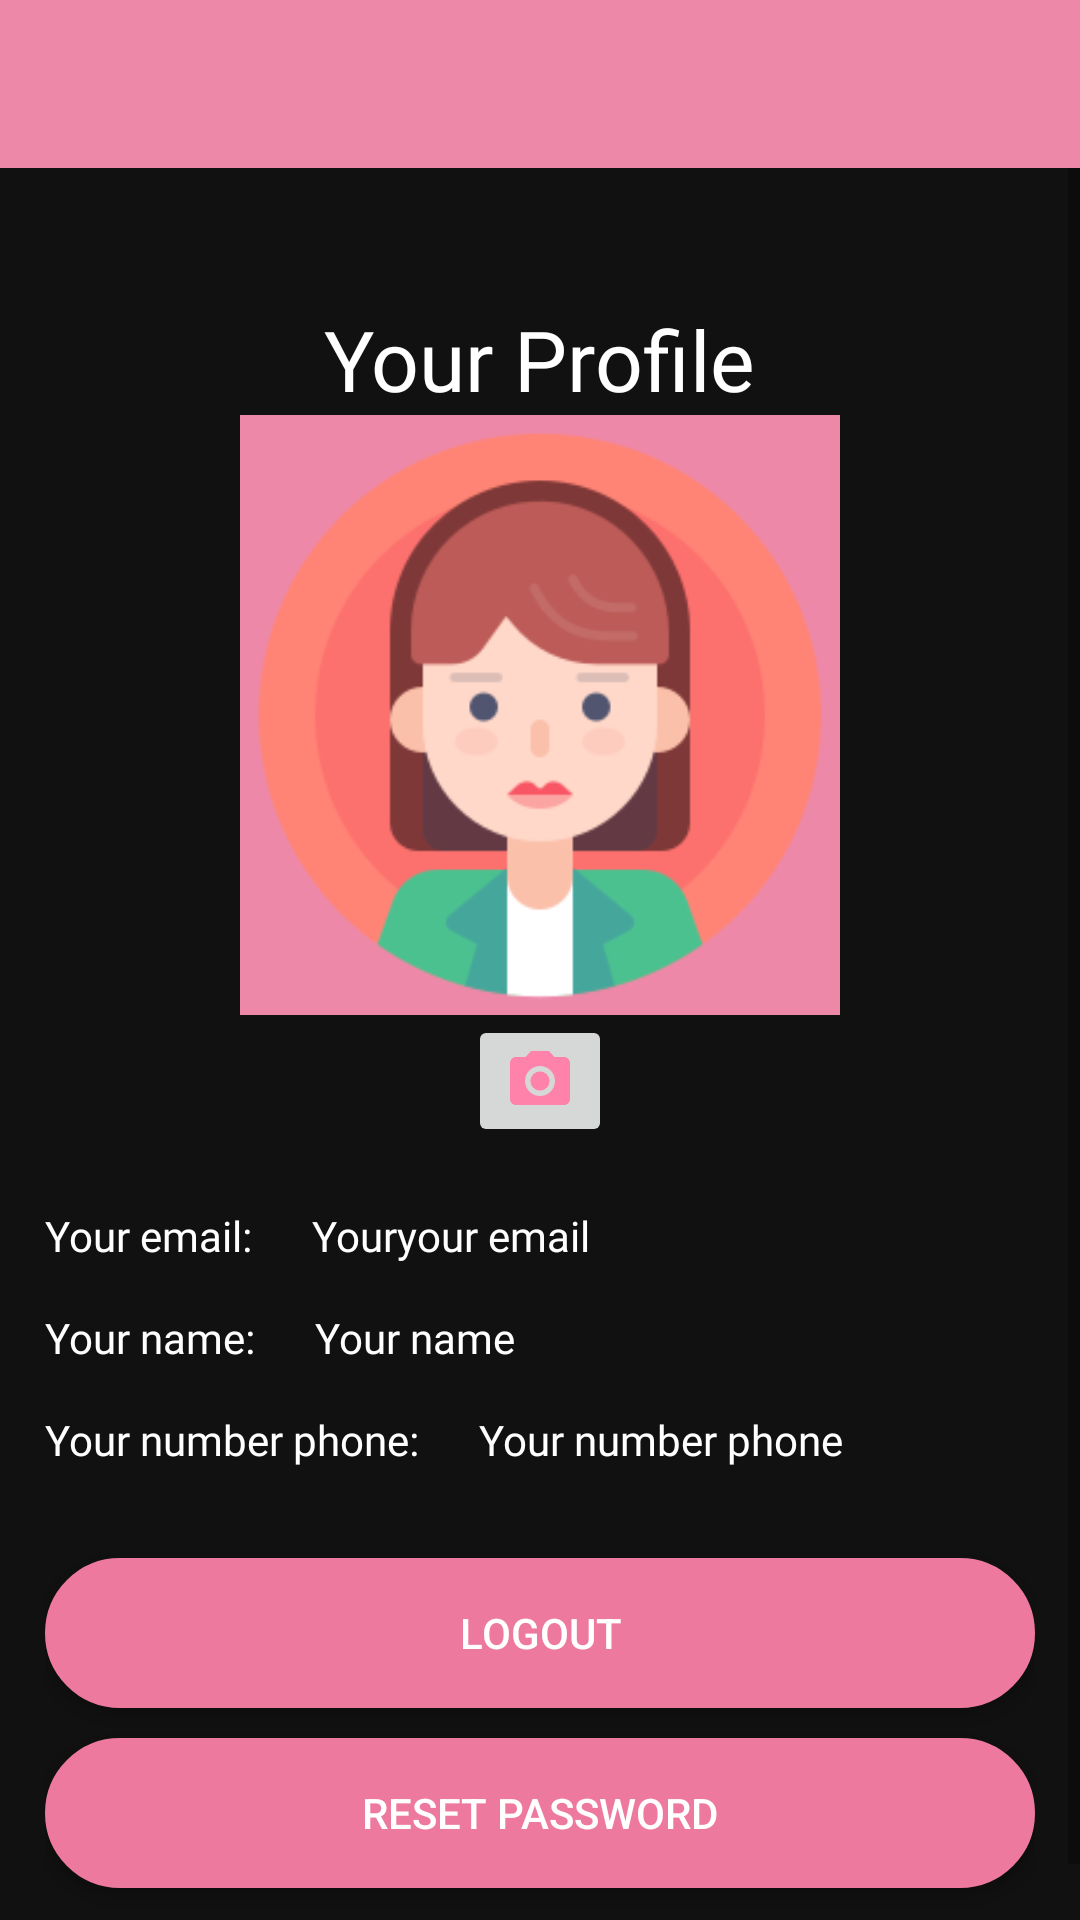

Named icons in this screenshot (1080x1920) and their centers, [x,y]:
photo camera: [540,1081]
